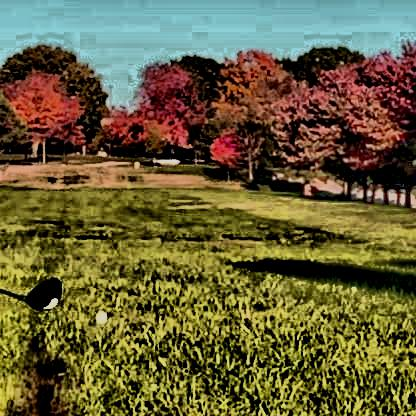golfball: (92, 306, 106, 321)
